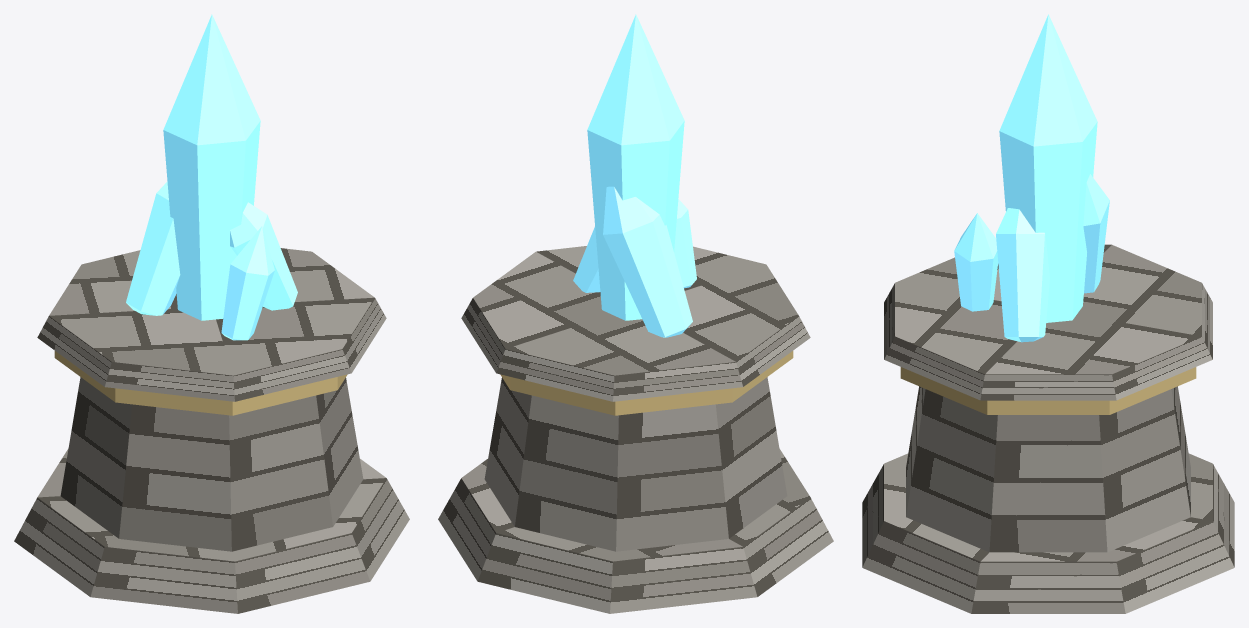
File: sample-prop.glb
3 renders of one model, left to right at view 1: azimuth 30°, elevation 25°; view 2: azimuth 150°, elevation 25°; view 3: azimuth 270°, elevation 25°, orthographic.
Visible parts, largest first — view 1: crystal_pedestal; view 2: crystal_pedestal; view 3: crystal_pedestal.
Boxes of the visible parts, <box> form: crystal_pedestal: <box>14,14,409,613</box>; crystal_pedestal: <box>438,14,833,613</box>; crystal_pedestal: <box>862,14,1234,613</box>.
Bounding box in the file's own units: 0.6282 × 0.97 × 0.6282.
3 materials, 1 textured.
